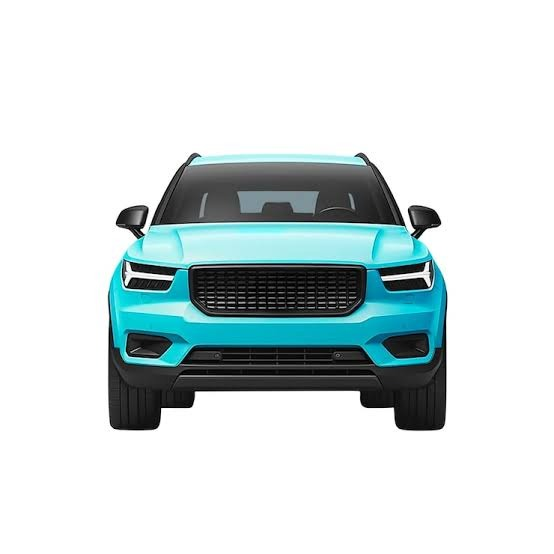car: (97, 152, 463, 457), (105, 146, 455, 454)
